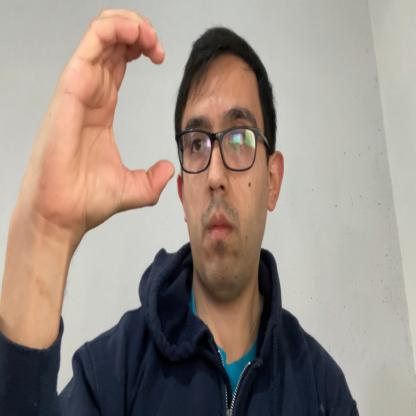C: (42, 8, 175, 230)
